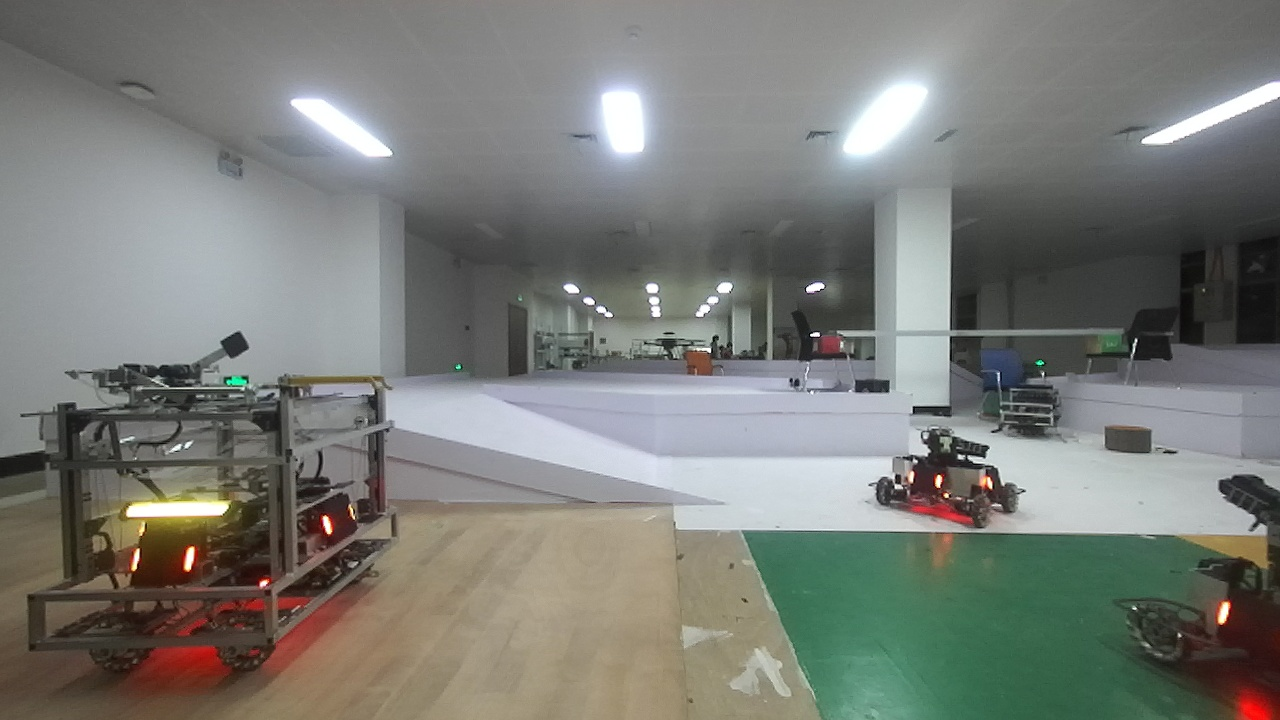car: (1, 342, 423, 683), (1102, 474, 1279, 680), (852, 427, 1032, 549)
